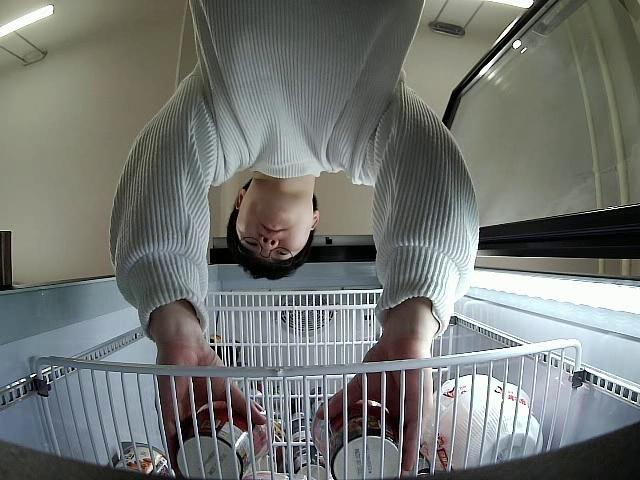02_shinRamen_S: (312, 394, 402, 480), (175, 403, 272, 480)
